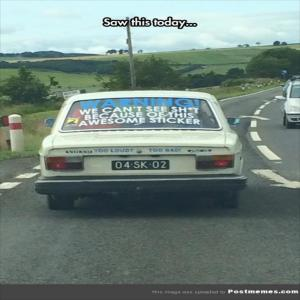Vehicle-registration-plate: (114, 161, 171, 171)
